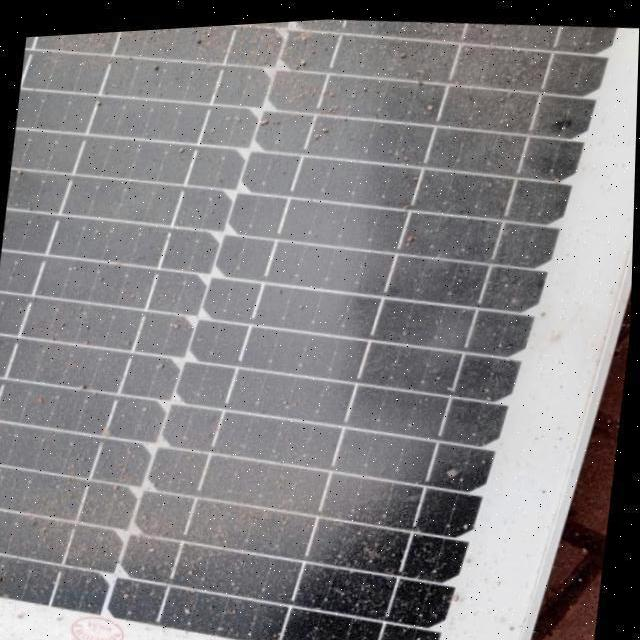Surface Contaminant: (0, 18, 593, 623)
